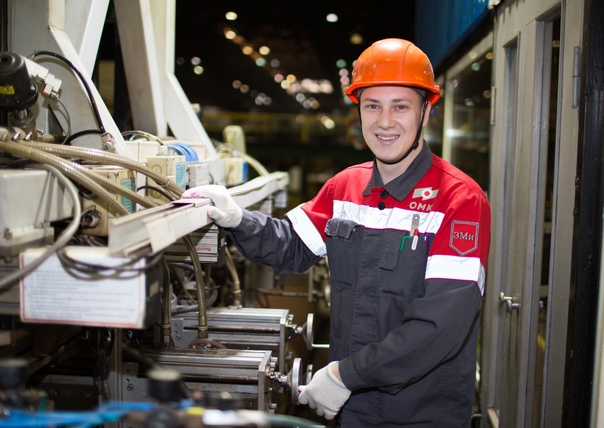person: (180, 38, 490, 427)
